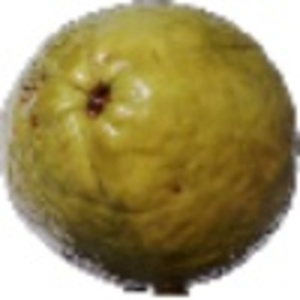goiaba: (5, 3, 296, 275)
